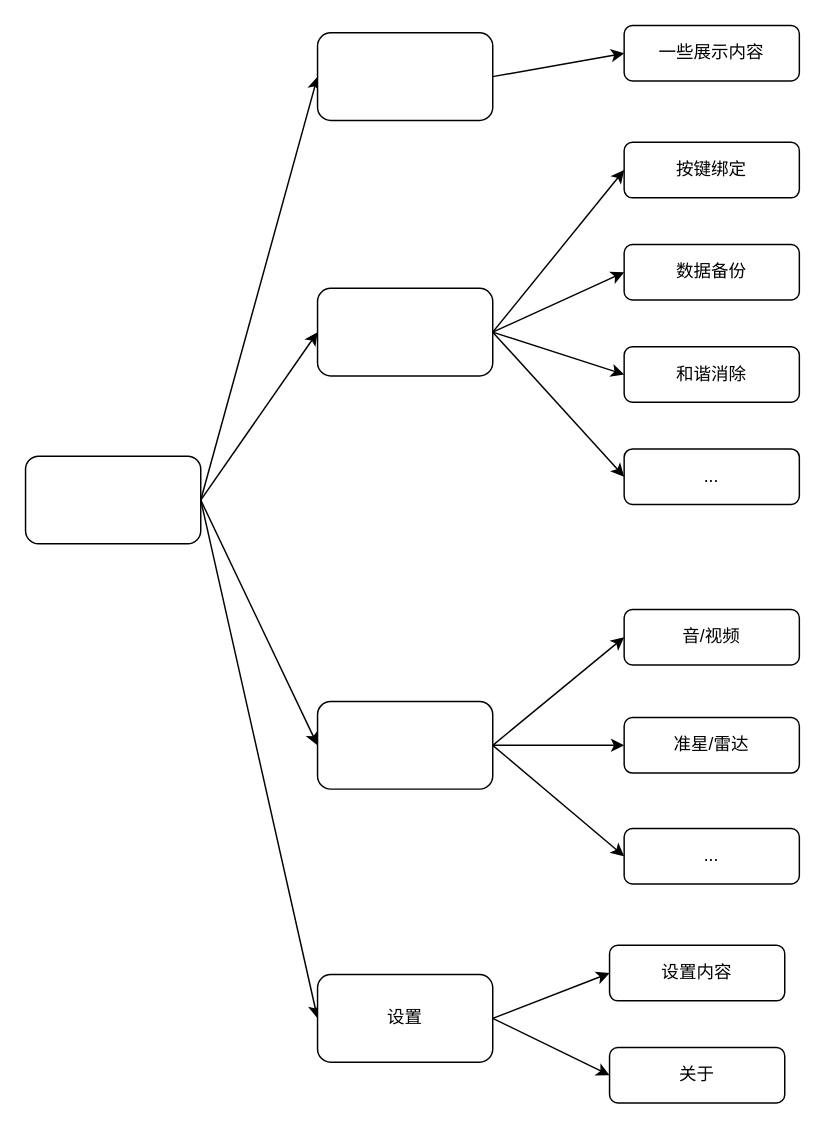
Some shapes in this 825 by 1129 pixel diagram are drawn without their labels. Each missing label, with the centre of its shape:
应用: point (112, 499)
游戏设置: point (404, 744)
特色功能: point (404, 331)
首页: point (404, 75)
